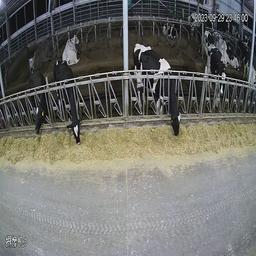cow: (134, 43, 181, 137), (54, 60, 86, 146), (26, 68, 48, 139), (206, 43, 226, 108), (63, 34, 80, 64), (185, 11, 205, 36), (161, 19, 177, 39)
